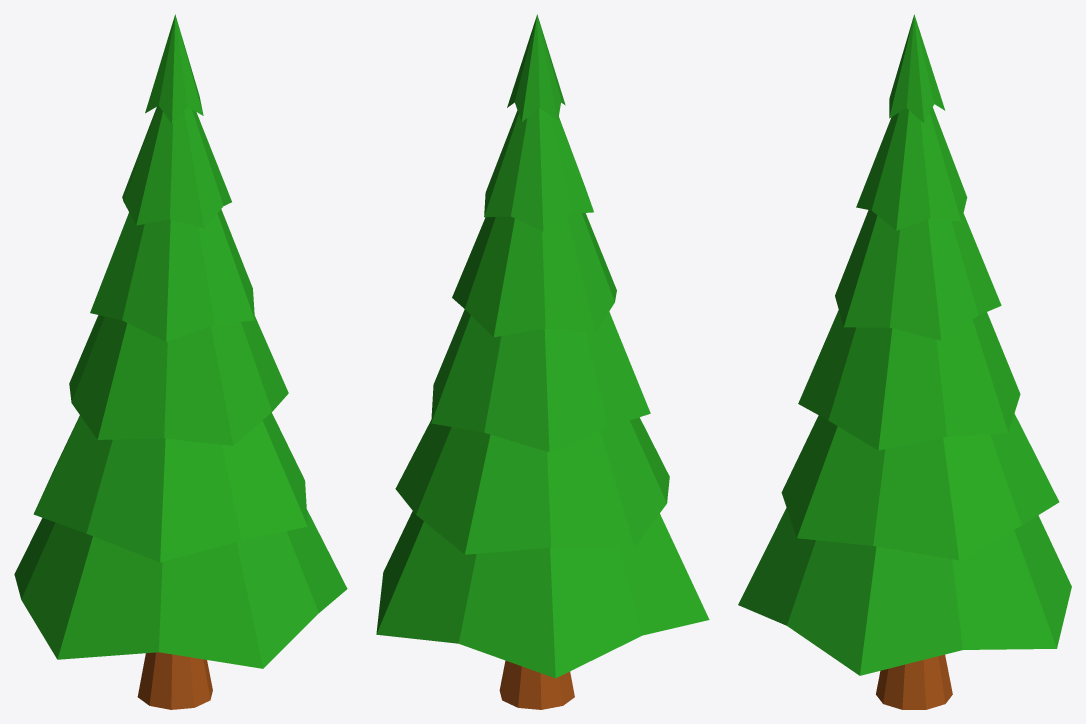
File: tree1.fbx
3 renders of one model, left to right at view 1: azimuth 30°, elevation 25°; view 2: azimuth 150°, elevation 25°; view 3: azimuth 270°, elevation 25°, orthographic.
Parts seen in each view (by area): view 1: Tree 1; view 2: Tree 1; view 3: Tree 1.
Part boxes in pixels (x1=…): Tree 1: x1=14, y1=14, x2=347, y2=709; Tree 1: x1=376, y1=14, x2=709, y2=709; Tree 1: x1=738, y1=14, x2=1071, y2=709.
Bounding box in the file's own units: 126 × 281 × 125.
